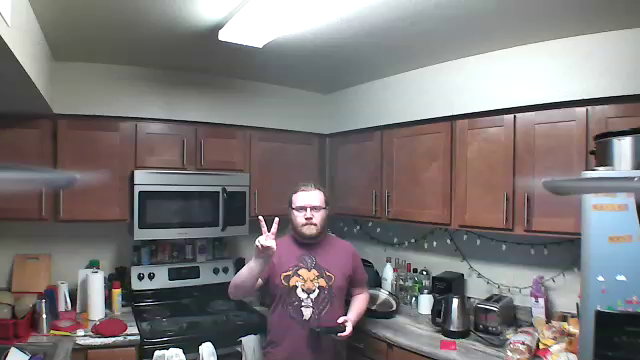peace: (253, 210, 281, 257)
